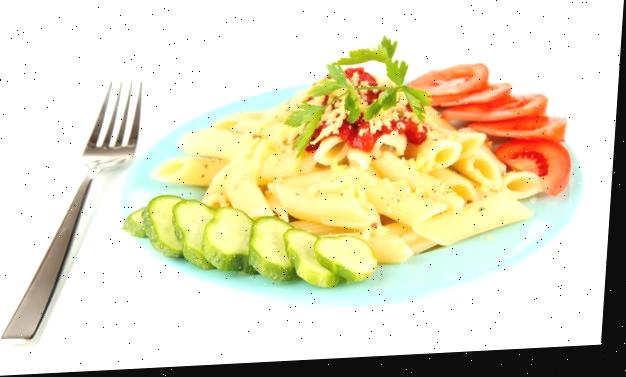pasta: (179, 92, 530, 262)
